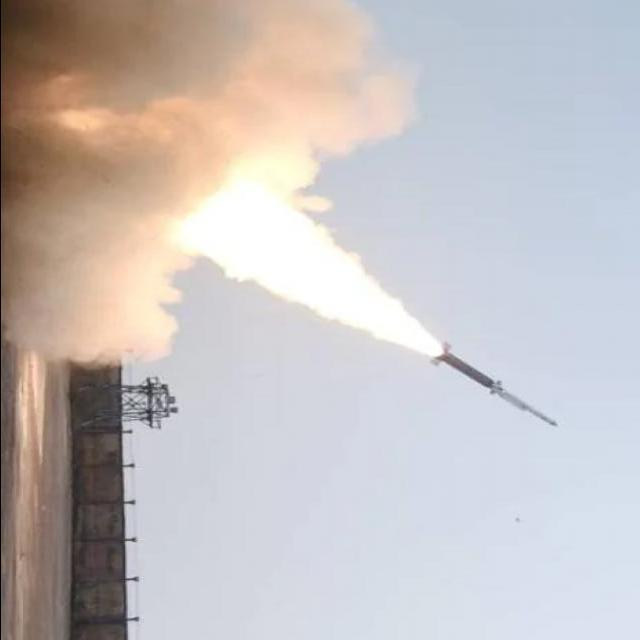missile: (416, 341, 573, 439)
